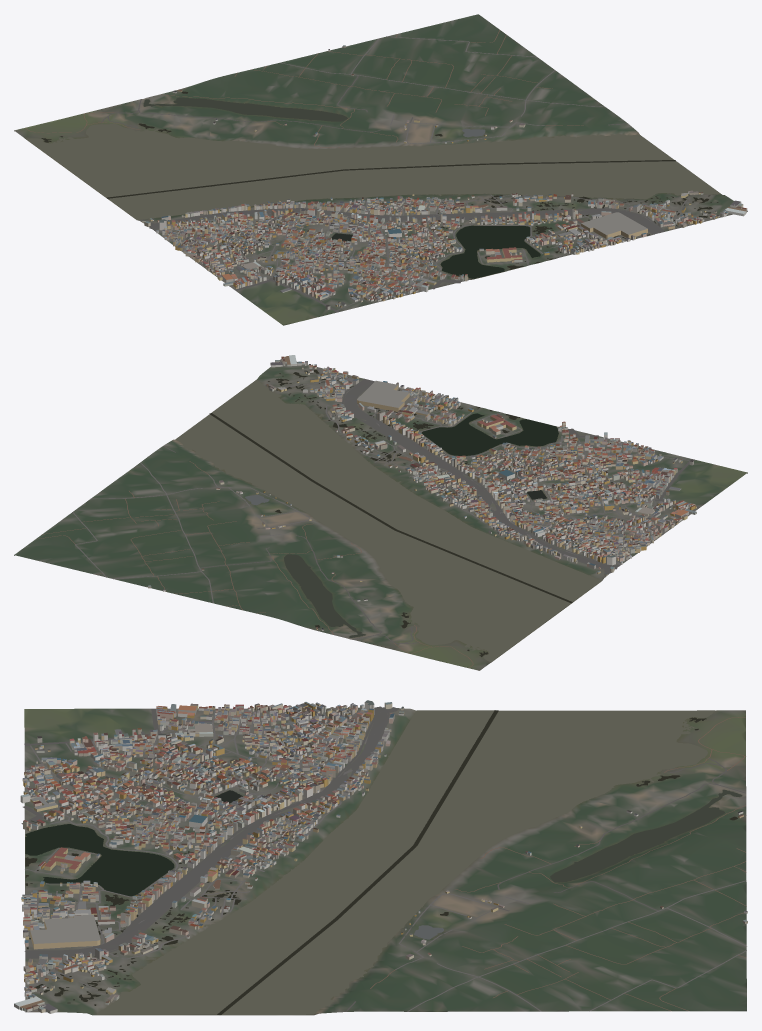
3 views of the same model, one above another, from view 1: azimuth 30°, elevation 25°; view 2: azimuth 150°, elevation 25°; view 3: azimuth 270°, elevation 25° (orthographic). The views are drawn at different scales.
Visible parts, largest first — view 1: ground, water, buildings, roads; view 2: ground, water, buildings, roads; view 3: ground, water, buildings, roads.
Boxes of the visible parts, x1,y1,x2,y2 form: ground: (14, 14, 747, 325); water: (26, 91, 720, 278); buildings: (141, 45, 747, 310); roads: (25, 30, 711, 312); ground: (14, 360, 747, 670); water: (176, 370, 601, 662); buildings: (148, 355, 696, 630); roads: (36, 359, 700, 667); ground: (24, 707, 746, 1015); water: (25, 710, 742, 1015); buildings: (14, 700, 747, 1013); roads: (21, 706, 746, 1012).
Size of the model in its own units: 1419 by 32.05 by 1426.
